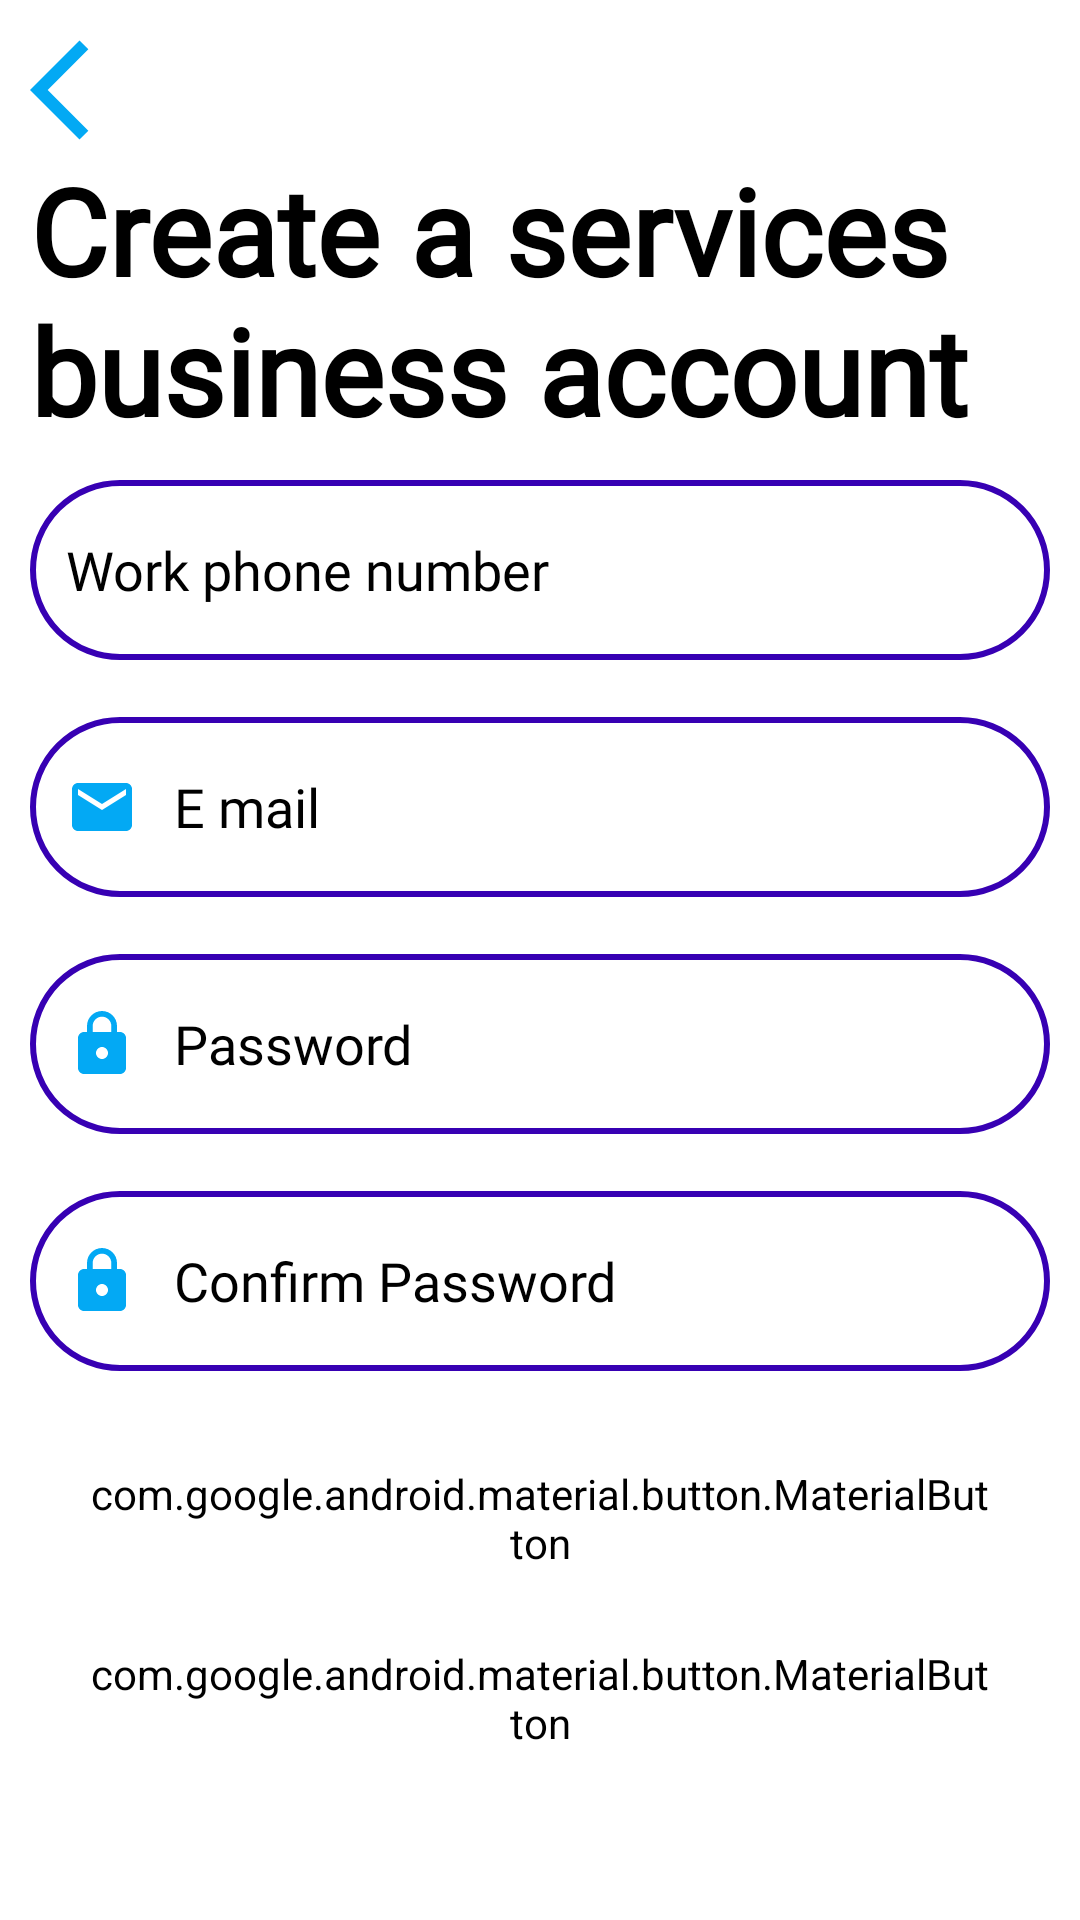

Named icons in this screenshot (1080*1920) and their bounding boxes, (x1, y1, x2, y2):
arrow back: (30, 40, 89, 140)
